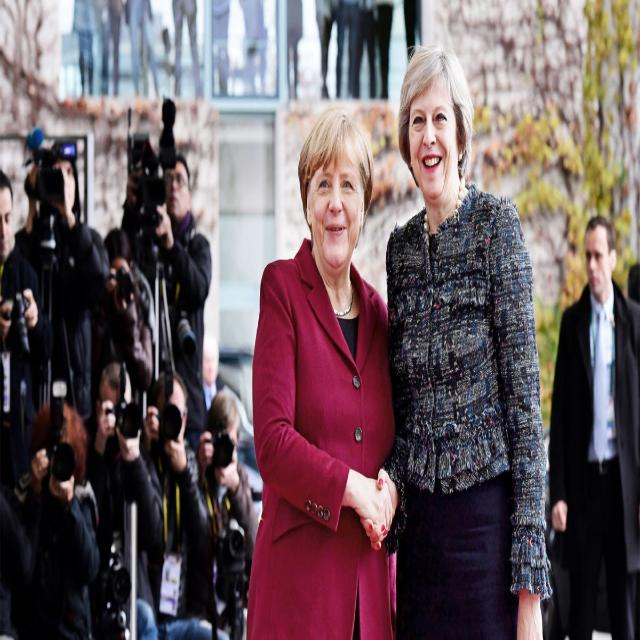body: (361, 40, 556, 639), (244, 106, 398, 640), (544, 211, 640, 639), (66, 0, 418, 112), (7, 136, 112, 426), (123, 151, 215, 451), (83, 358, 166, 640), (10, 402, 101, 640), (140, 358, 215, 639), (0, 168, 53, 513), (195, 388, 260, 630), (100, 224, 158, 394)
